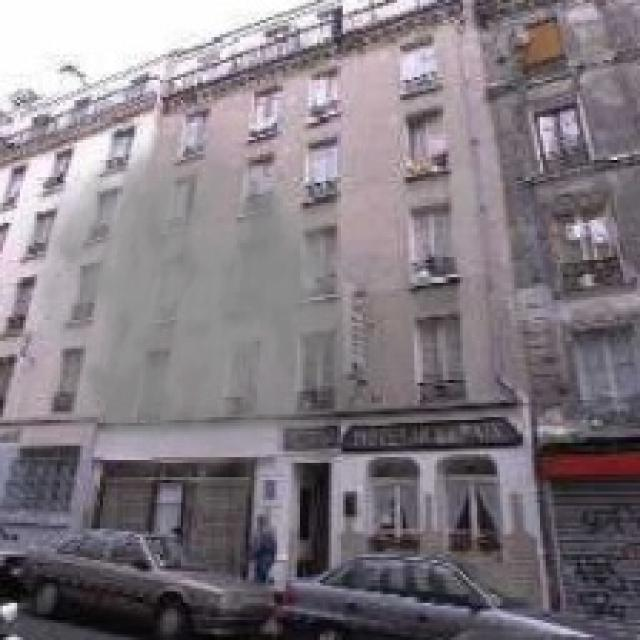Smoke: (20, 120, 380, 520)
